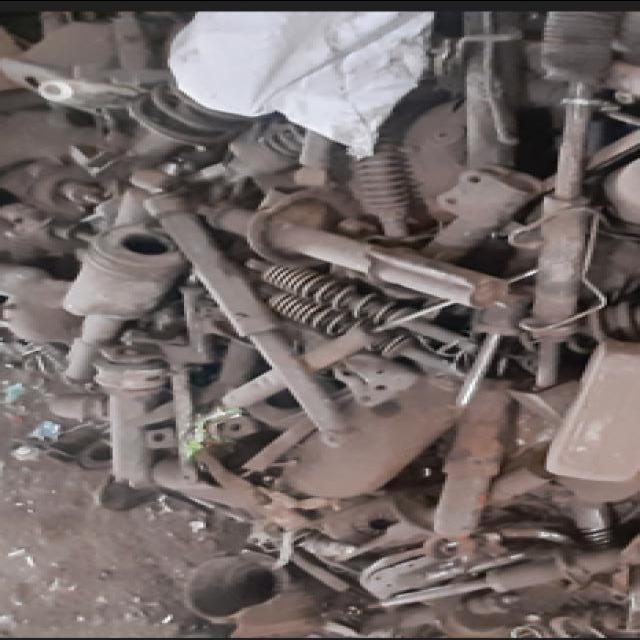shock absorber: (142, 192, 367, 447), (243, 256, 475, 351), (363, 543, 632, 610)
